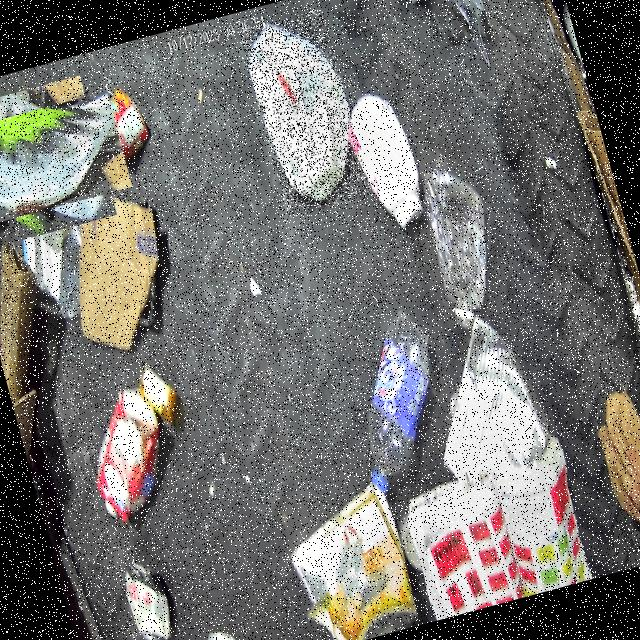milk-jug: (238, 8, 372, 218), (0, 82, 123, 231)
